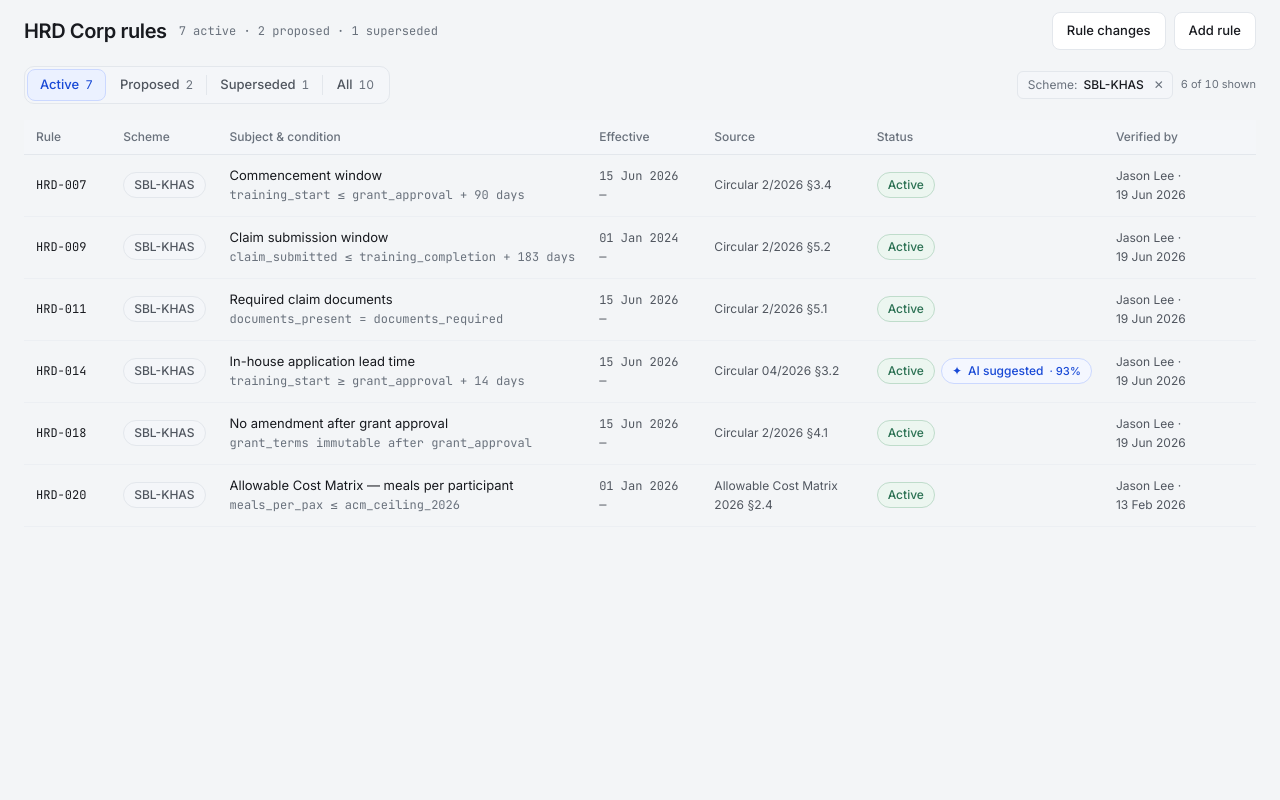
Test: M12-S07 · rules registry › carries one primary that opens the add-rule drawer
Click the button "Add rule": (1215, 31) [1174,12,1256,50]
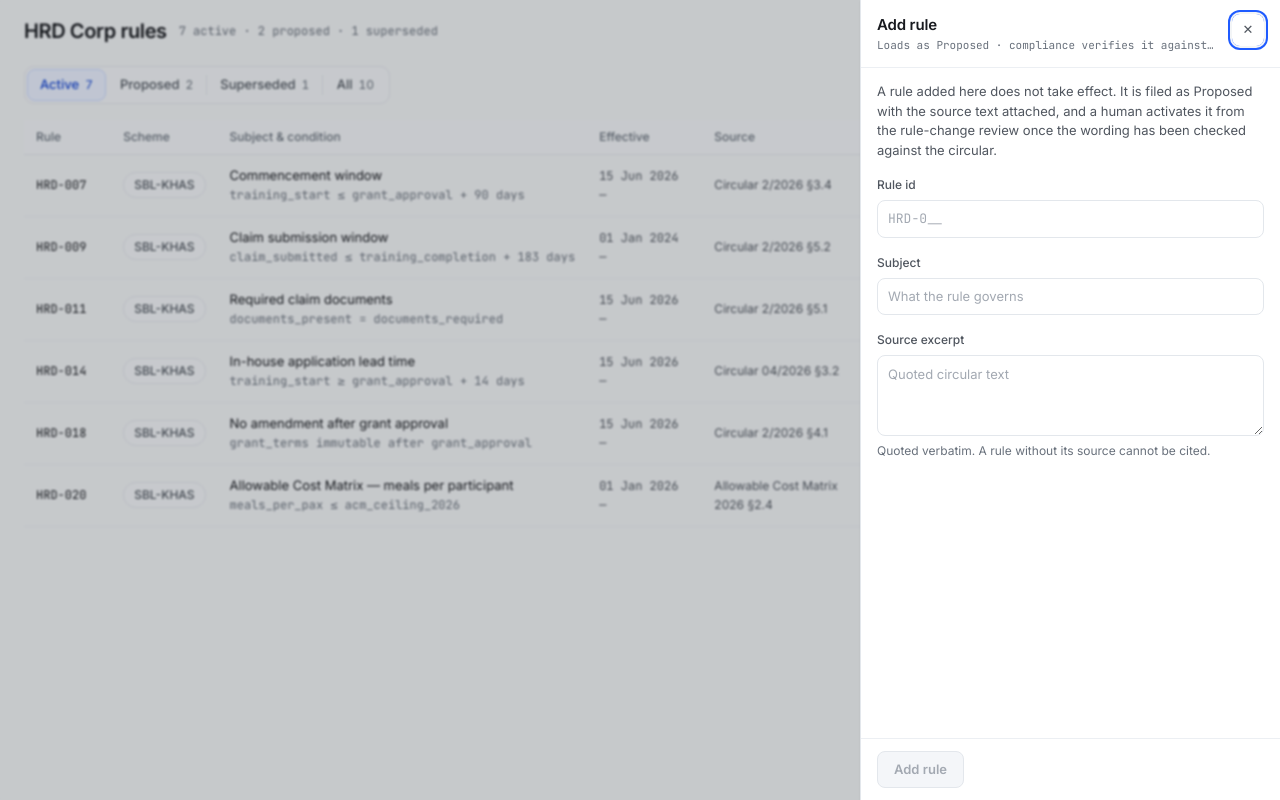
Expected: the text "does not take effect" is shown, [877,83,1252,158]
